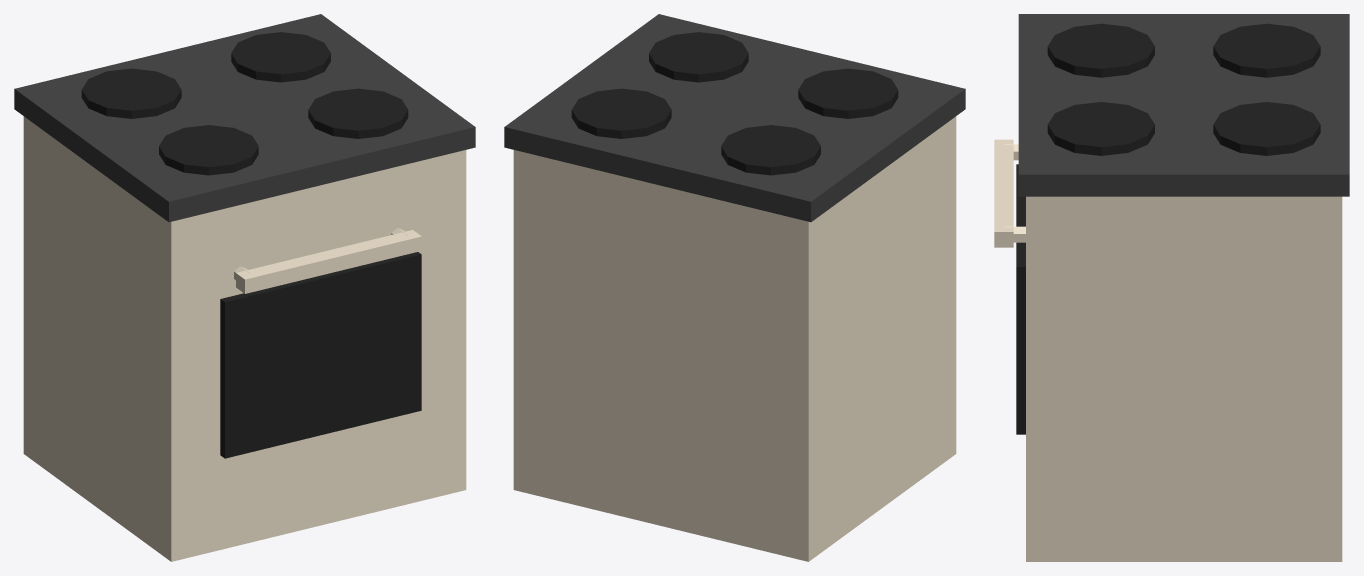
The picture shows the model from 3 angles, left to right: view 1: azimuth 30°, elevation 25°; view 2: azimuth 150°, elevation 25°; view 3: azimuth 270°, elevation 25°; orthographic projection. The views are drawn at different scales.
Visible parts, largest first — view 1: Stove, Hob, Oven window, Door handle, Burner.001, Burner.002, Burner, Burner.003; view 2: Stove, Hob, Burner, Burner.003, Burner.001, Burner.002; view 3: Stove, Hob, Burner.001, Burner.002, Burner, Burner.003, Oven window, Door handle.
Boxes of the visible parts, bbox=[...] form: Stove: bbox=[23, 116, 466, 561]; Hob: bbox=[14, 14, 475, 222]; Oven window: bbox=[220, 252, 421, 458]; Door handle: bbox=[236, 230, 421, 293]; Burner.001: bbox=[81, 68, 181, 118]; Burner.002: bbox=[308, 88, 408, 138]; Burner: bbox=[159, 125, 258, 175]; Burner.003: bbox=[231, 32, 330, 82]; Stove: bbox=[513, 116, 956, 561]; Hob: bbox=[504, 14, 965, 222]; Burner: bbox=[798, 68, 898, 118]; Burner.003: bbox=[571, 88, 671, 138]; Burner.001: bbox=[721, 125, 820, 175]; Burner.002: bbox=[649, 32, 748, 82]; Stove: bbox=[1026, 196, 1342, 561]; Hob: bbox=[1018, 14, 1349, 196]; Burner.001: bbox=[1213, 23, 1320, 77]; Burner.002: bbox=[1047, 102, 1154, 155]; Burner: bbox=[1047, 23, 1154, 77]; Burner.003: bbox=[1213, 102, 1320, 155]; Oven window: bbox=[1016, 164, 1025, 434]; Door handle: bbox=[994, 139, 1013, 247].
Size of the model in its own units: 0.78 by 0.905 by 0.73.
Materials: 1 (1 with a texture image).
